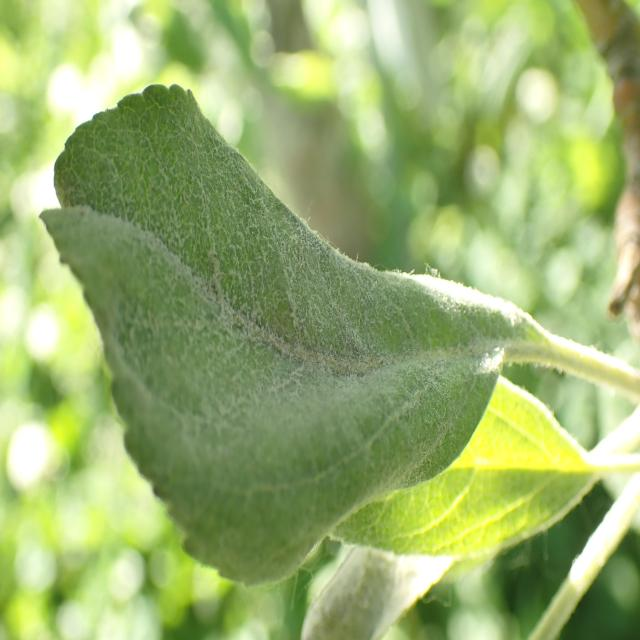Powdery_mildew: (0, 83, 562, 583)
